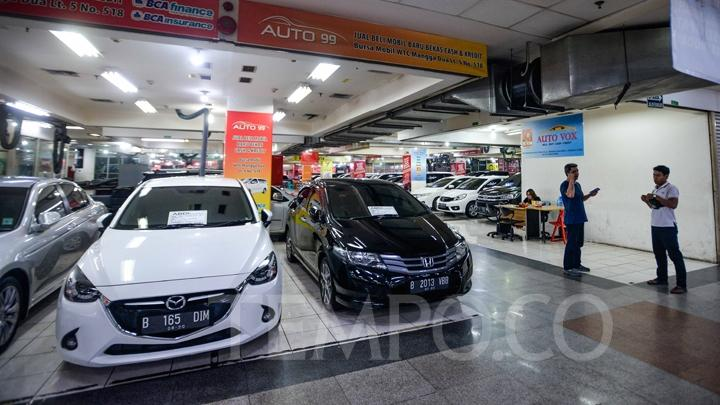plate: (139, 311, 210, 332), (409, 276, 448, 295)
